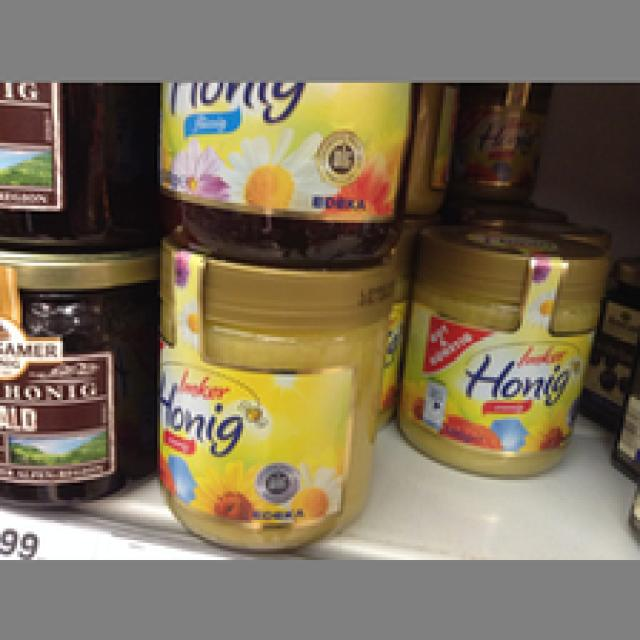groceries: (146, 240, 394, 554), (406, 212, 608, 474)
